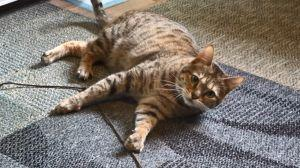bengal: (175, 43, 245, 119)
